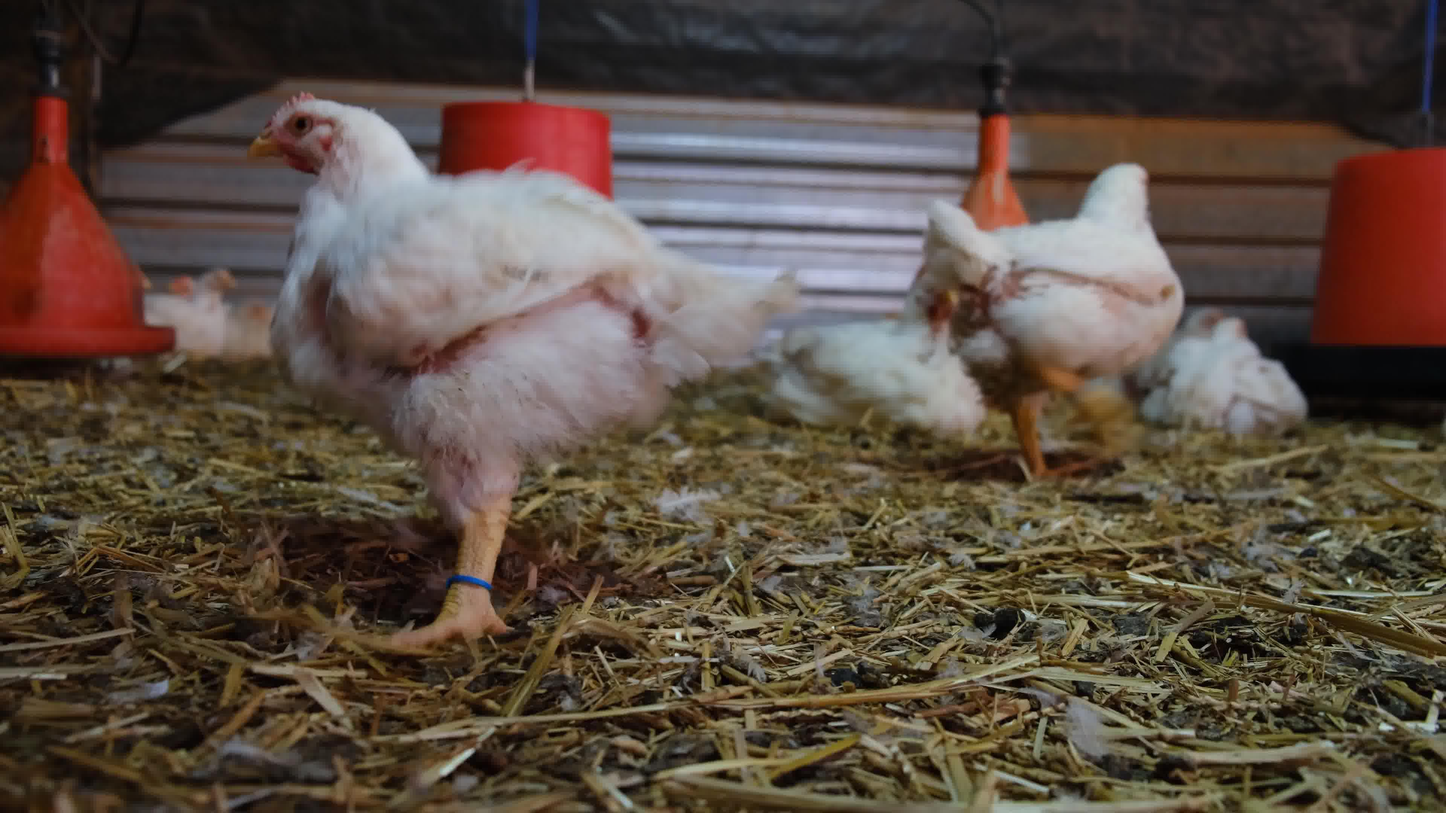AbNormal: (774, 320, 994, 435), (1149, 313, 1311, 429), (1129, 309, 1230, 408)
Normal: (241, 87, 795, 645), (912, 160, 1187, 479), (167, 270, 287, 365), (137, 264, 241, 371), (128, 262, 159, 294)
